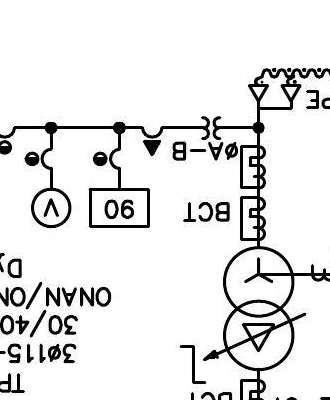11522_tx_dyn1: (222, 245, 295, 372)
terminator_double: (248, 84, 302, 111)
v_m: (30, 187, 73, 229)
